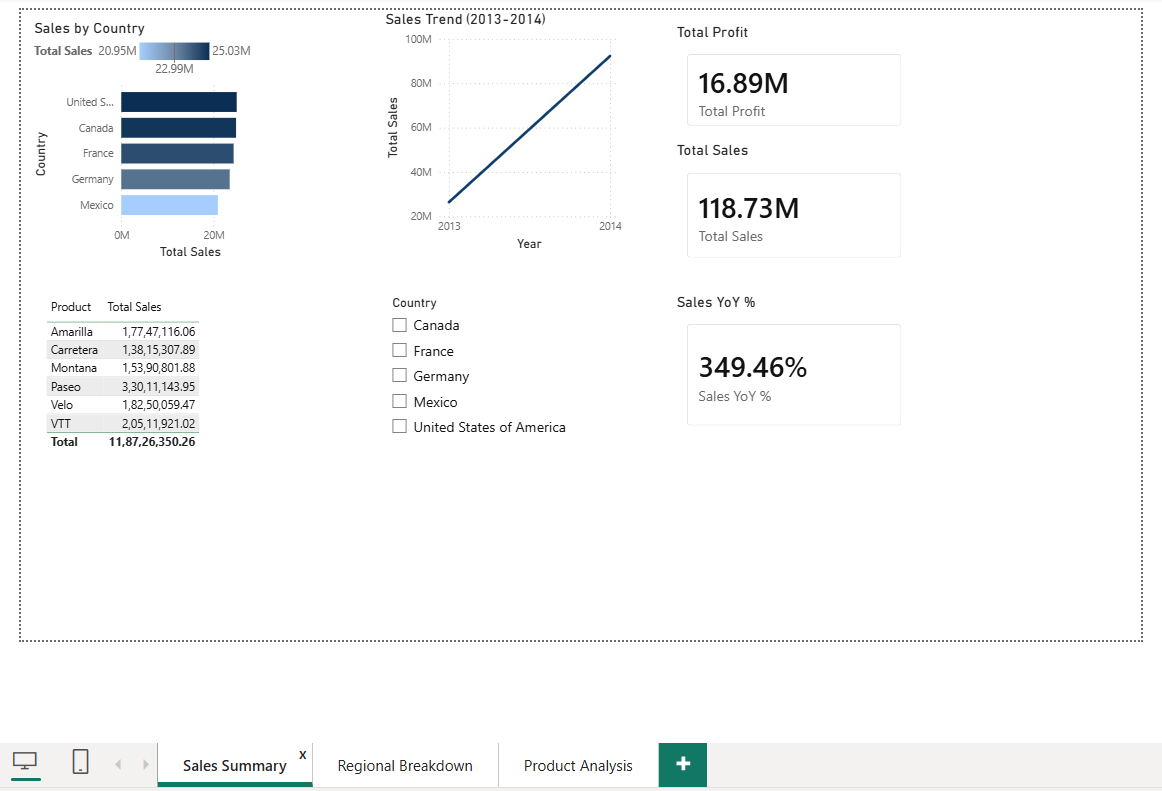

What the dashboard file says about the page in this screenshot:
{"tool":"powerbi","page":{"name":"Sales Summary","canvas":[1280,720],"ordinal":0},"visuals":[{"type":"clusteredBarChart","title":"Sales by Country","fields":{"Category":["financials.Country"],"Y":["financials.Total Sales"]},"box":[9.6,9.6,279.9,279.9],"z":0},{"type":"lineChart","title":"Sales Trend (2013-2014)","fields":{"Category":["DateTable.Year"],"Y":["financials.Total Sales"]},"box":[411.7,0,279.9,279.9],"z":1000},{"type":"cardVisual","title":"Total Sales","fields":{"Data":["financials.Total Sales"]},"box":[743.7,149.6,279.9,150.9],"z":2000},{"type":"cardVisual","title":"Total Profit","fields":{"Data":["financials.Total Profit"]},"box":[743.7,13.7,279.9,135.8],"z":3000},{"type":"tableEx","fields":{"Values":["financials.Product","financials.Total Sales"]},"box":[23.3,322.5,279.9,216.8],"z":4000},{"type":"slicer","fields":{"Values":["financials.Country"]},"box":[411.9,322.1,279.4,196.7],"z":5000},{"type":"cardVisual","title":"Sales YoY %","fields":{"Data":["financials.Sales YoY %"]},"box":[744.1,323.6,279.4,169.6],"z":6000}]}

Visuals, with their boxes on the page's 1280x720 design canvas (x1, y1, x2, y2). These are canvas units, not pixel positions in the 1162x791 screenshot, which may show the page scaled, cropped or inside an application window:
"Sales by Country" clusteredBarChart: Rect(10, 10, 290, 290)
"Sales Trend (2013-2014)" lineChart: Rect(412, 0, 692, 280)
"Total Sales" cardVisual: Rect(744, 150, 1024, 300)
"Total Profit" cardVisual: Rect(744, 14, 1024, 150)
tableEx - financials.Product x financials.Total Sales: Rect(23, 322, 303, 539)
slicer - financials.Country: Rect(412, 322, 691, 519)
"Sales YoY %" cardVisual: Rect(744, 324, 1024, 493)
